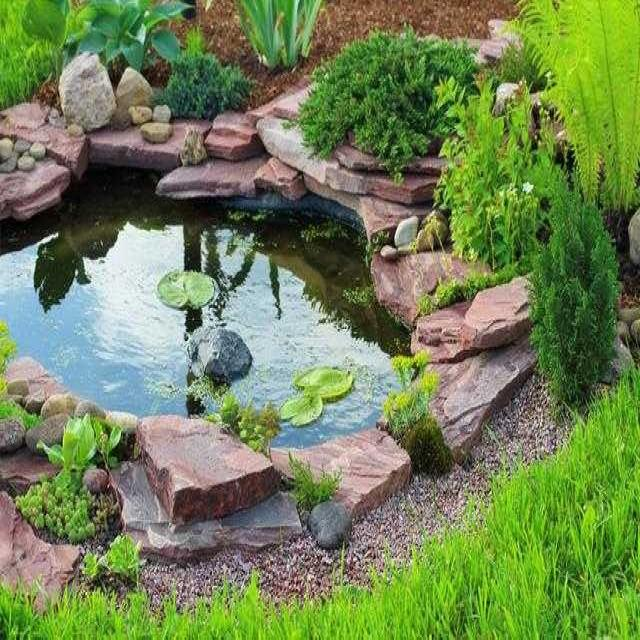Ponds: (1, 131, 431, 491)
